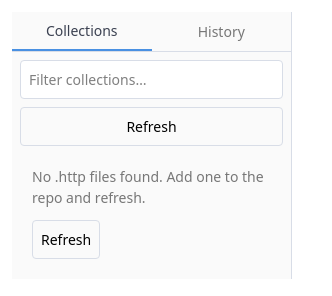
SidebarShell collections load › shows history entries and supports search filter
Click the tab "History" at {"x": 221, "y": 32}, box [152,12,291,51]
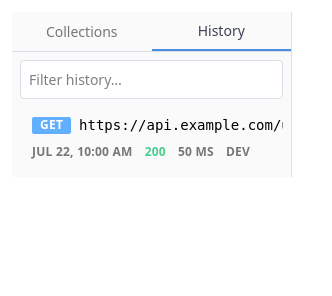
Check: the text "https://api.example.com/users" is shown, box [79,115,283,136]
Type "zzz-no-match" into the search field labelled "Filter history…" at {"x": 152, "y": 80}, box [20,60,283,99]
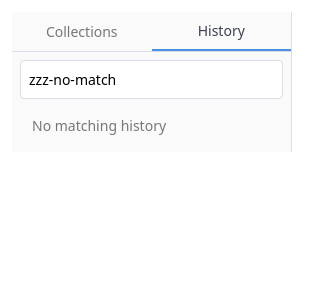
Check: the text "No matching history" is shown, box [32,116,166,135]
